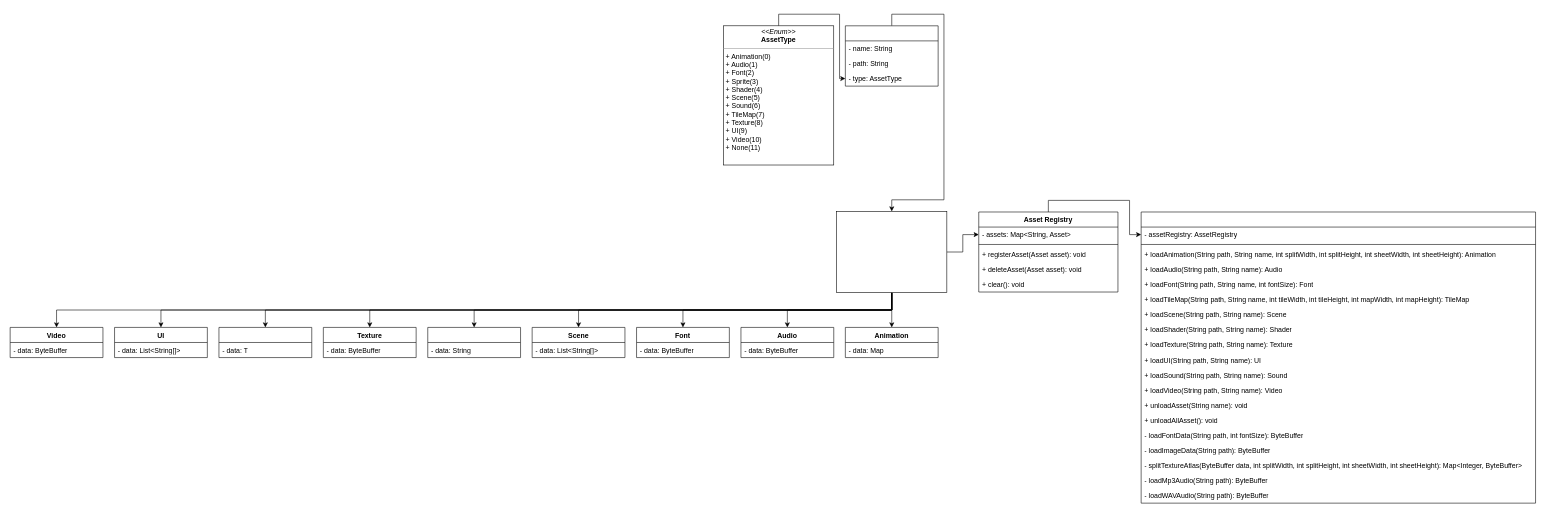
This 1546x515 diagram has some shape labels left out. Here are the shapes that lost their labels. From the top down, the box of each, then its label:
(845, 25, 938, 86): AssetMetaData
(836, 211, 947, 293): <<Abstract>> Asset - metaData: AssetMetaData
(218, 327, 312, 358): TileMap<T>
(427, 327, 521, 358): Shader
(1141, 211, 1536, 503): AssetManager
